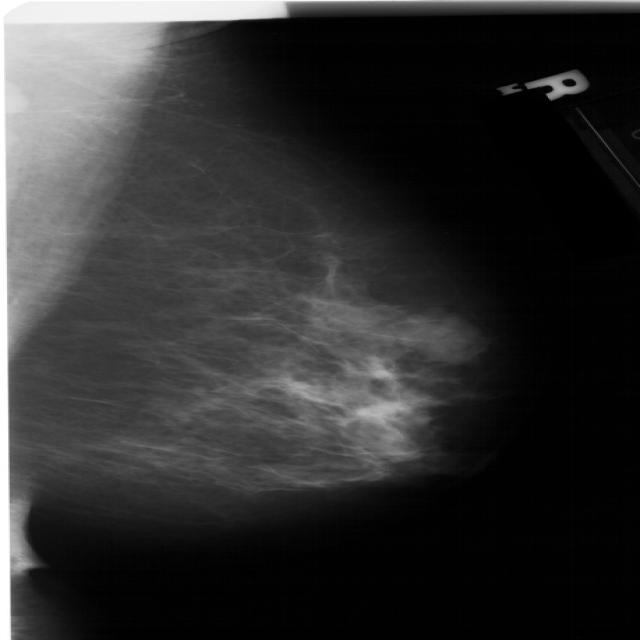tumour: (397, 308, 484, 364)
